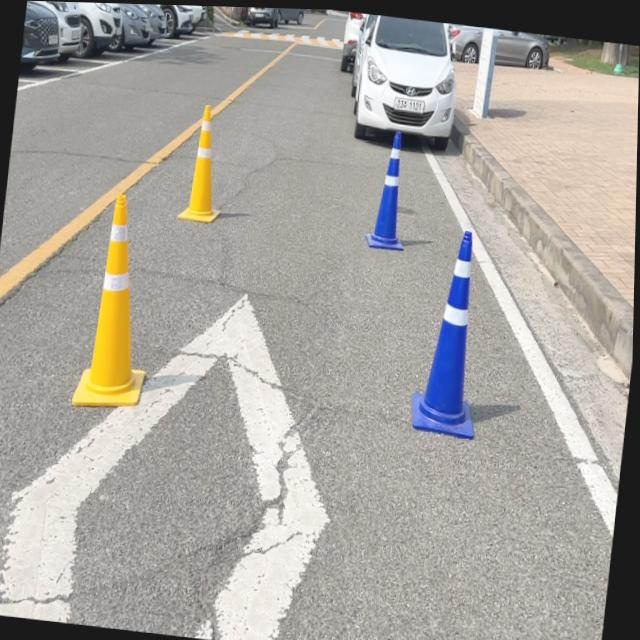b_rub: (414, 226, 476, 435), (367, 126, 405, 247)
y_rub: (73, 192, 145, 404), (179, 102, 220, 220)
